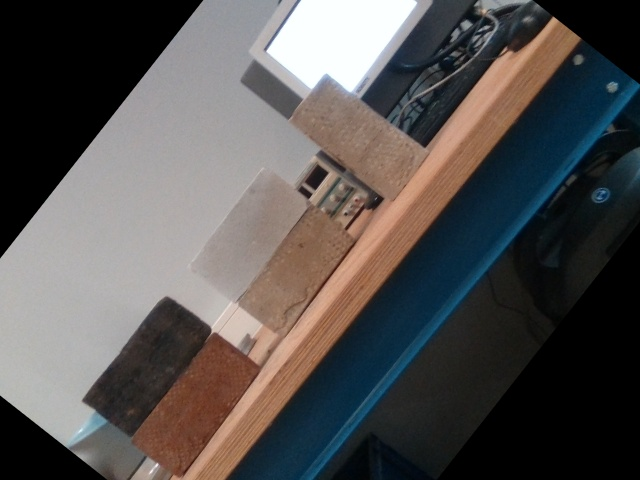brick: (85, 297, 208, 433), (135, 337, 254, 474), (293, 78, 425, 198), (193, 171, 308, 299), (240, 209, 350, 331)
